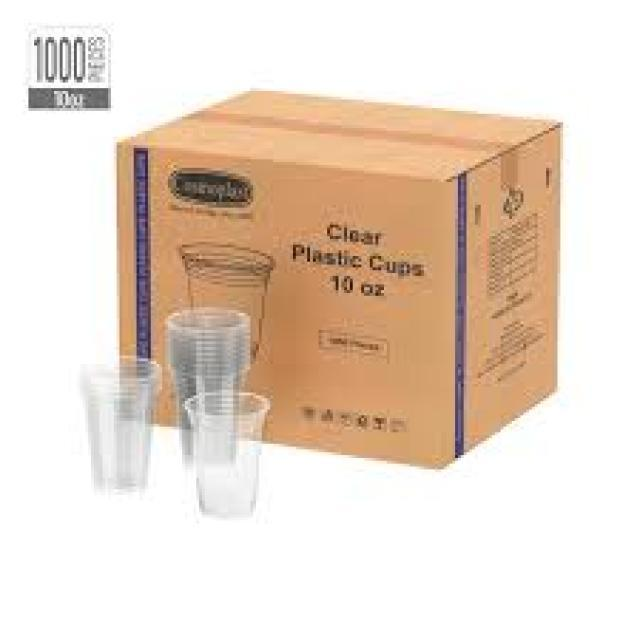cup: (70, 340, 168, 506), (186, 382, 276, 530)
